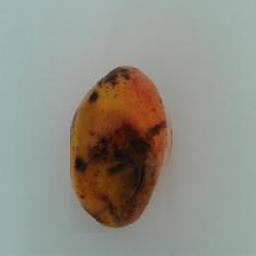Mango Rotten: (71, 59, 176, 233)
